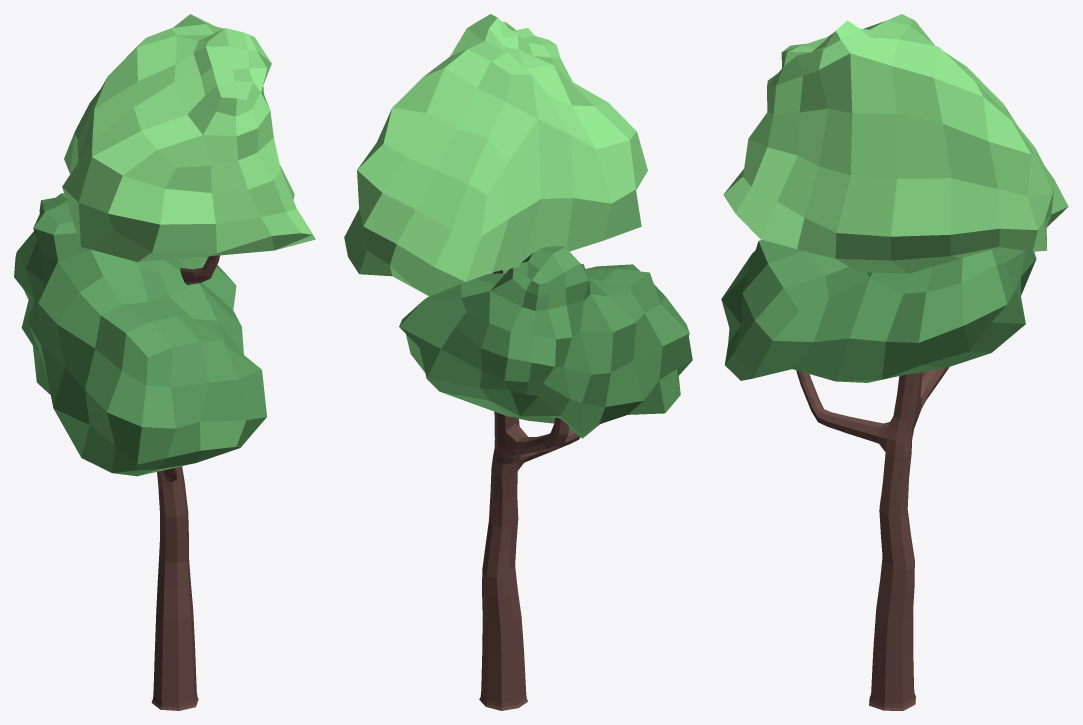
The model's file is sum-tree1.glb.
3 views of the same model, side by side, from view 1: azimuth 30°, elevation 25°; view 2: azimuth 150°, elevation 25°; view 3: azimuth 270°, elevation 25° (orthographic). The views are drawn at different scales.
Parts seen in each view (by area): view 1: CommonTree_Autumn_3; view 2: CommonTree_Autumn_3; view 3: CommonTree_Autumn_3.
Part boxes in pixels (x1=…): CommonTree_Autumn_3: x1=14, y1=14, x2=315, y2=710; CommonTree_Autumn_3: x1=344, y1=14, x2=692, y2=710; CommonTree_Autumn_3: x1=721, y1=14, x2=1068, y2=710.
Bounding box in the file's own units: 1.28 × 3.46 × 1.56.
